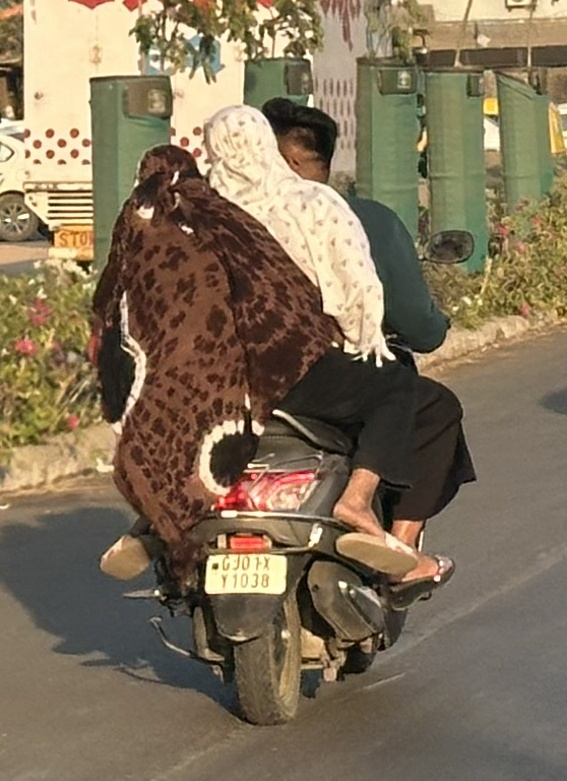BikeWithRider: (70, 90, 492, 734)
NoHelmet: (190, 98, 296, 208), (248, 90, 351, 193), (123, 137, 211, 211)
